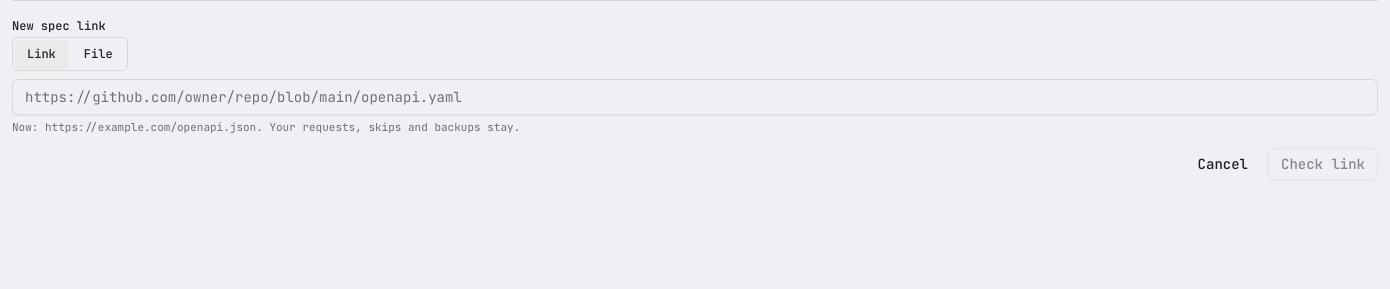
Test: ChangeLinkForm › the_token_field_shows_for_github_links_only
Step 1. Type "https://example.com/other.json" into the field named "New spec link" → (695, 97), box [12,79,1378,115]
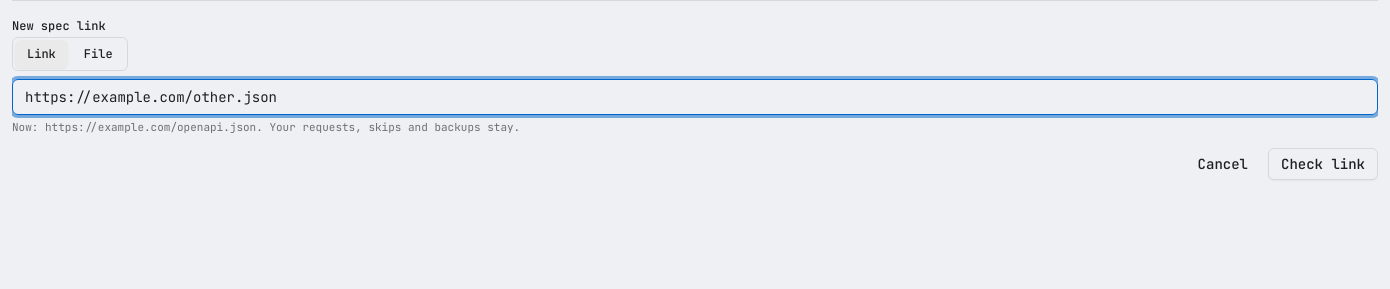
Check: the field labelled "Access token (optional)" is not shown
Step 2. Replace the text in the field named "New spec link" with "https://github.com/acme/orders/blob/main/openapi.yaml" → (695, 97), box [12,79,1378,115]
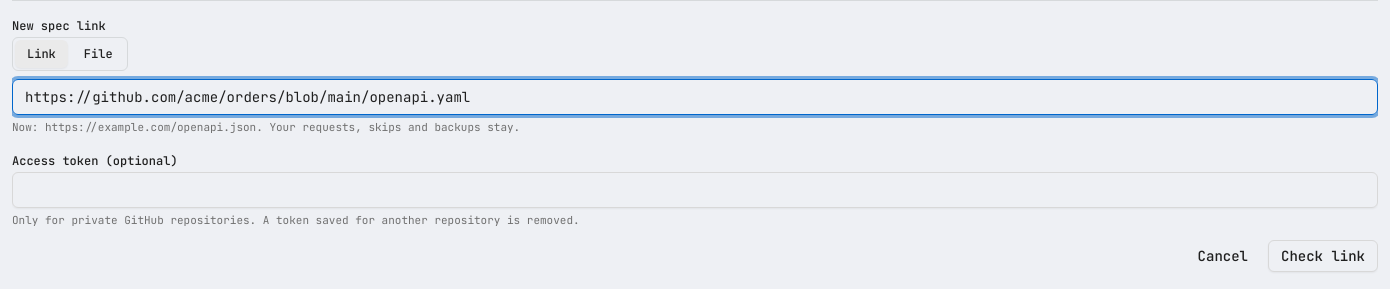
Check: the password field labelled "Access token (optional)" is shown, box [12,172,1378,208]
